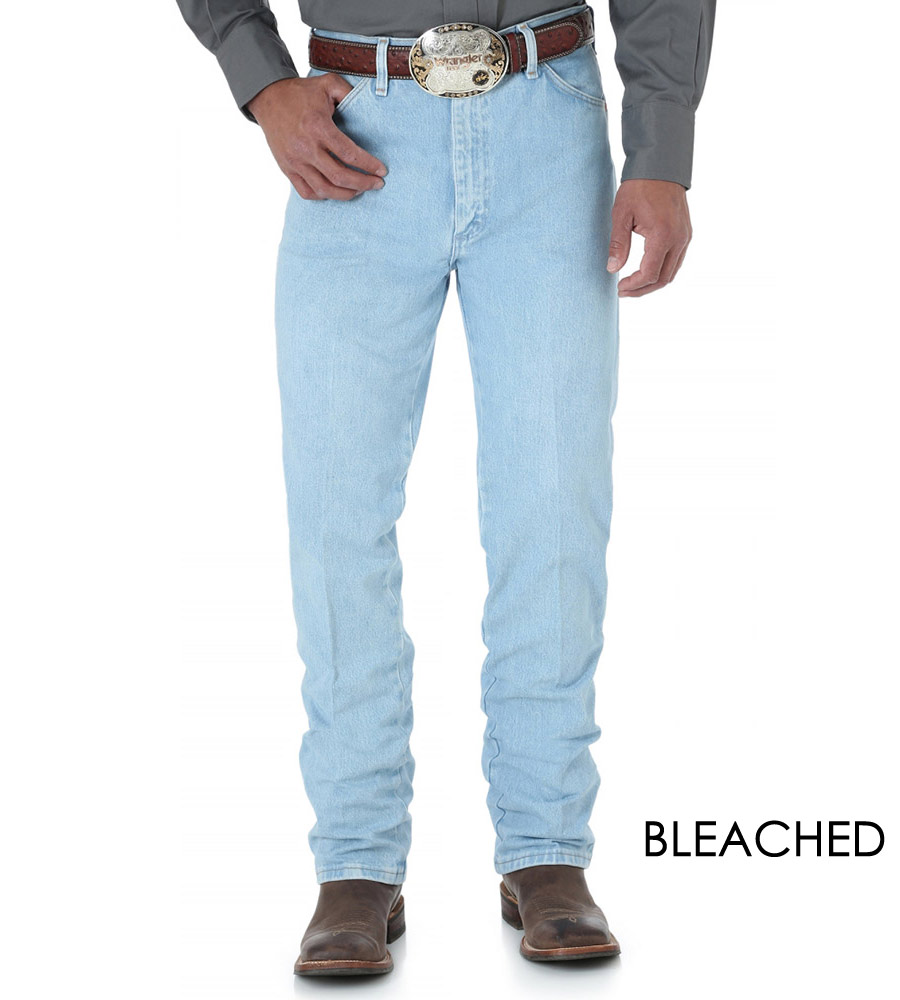Jeans: (260, 26, 628, 885)
